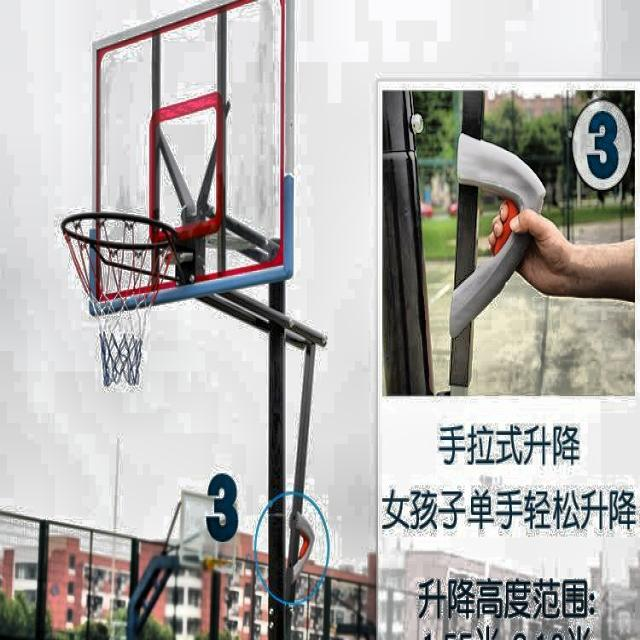rim: (62, 212, 176, 385)
